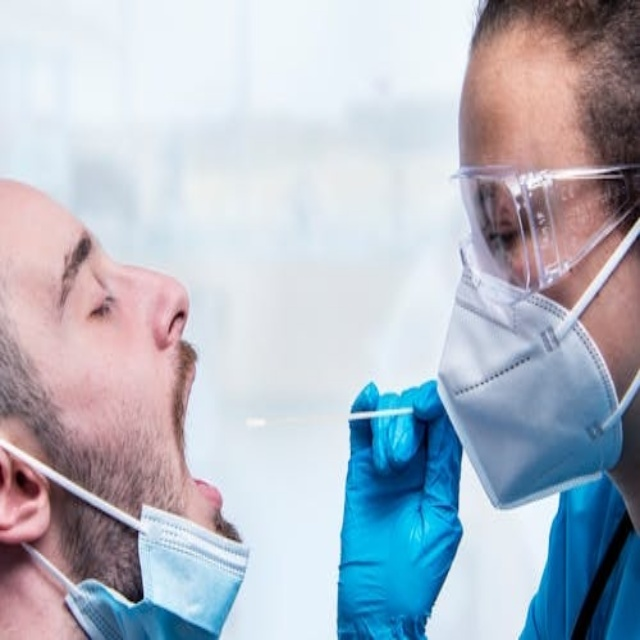Gafas: (446, 160, 640, 293)
Guantes: (337, 375, 466, 640)
Mascara: (431, 269, 631, 511)
Sin_gafas: (36, 219, 129, 382)
Sin_mascara: (148, 340, 241, 504)
